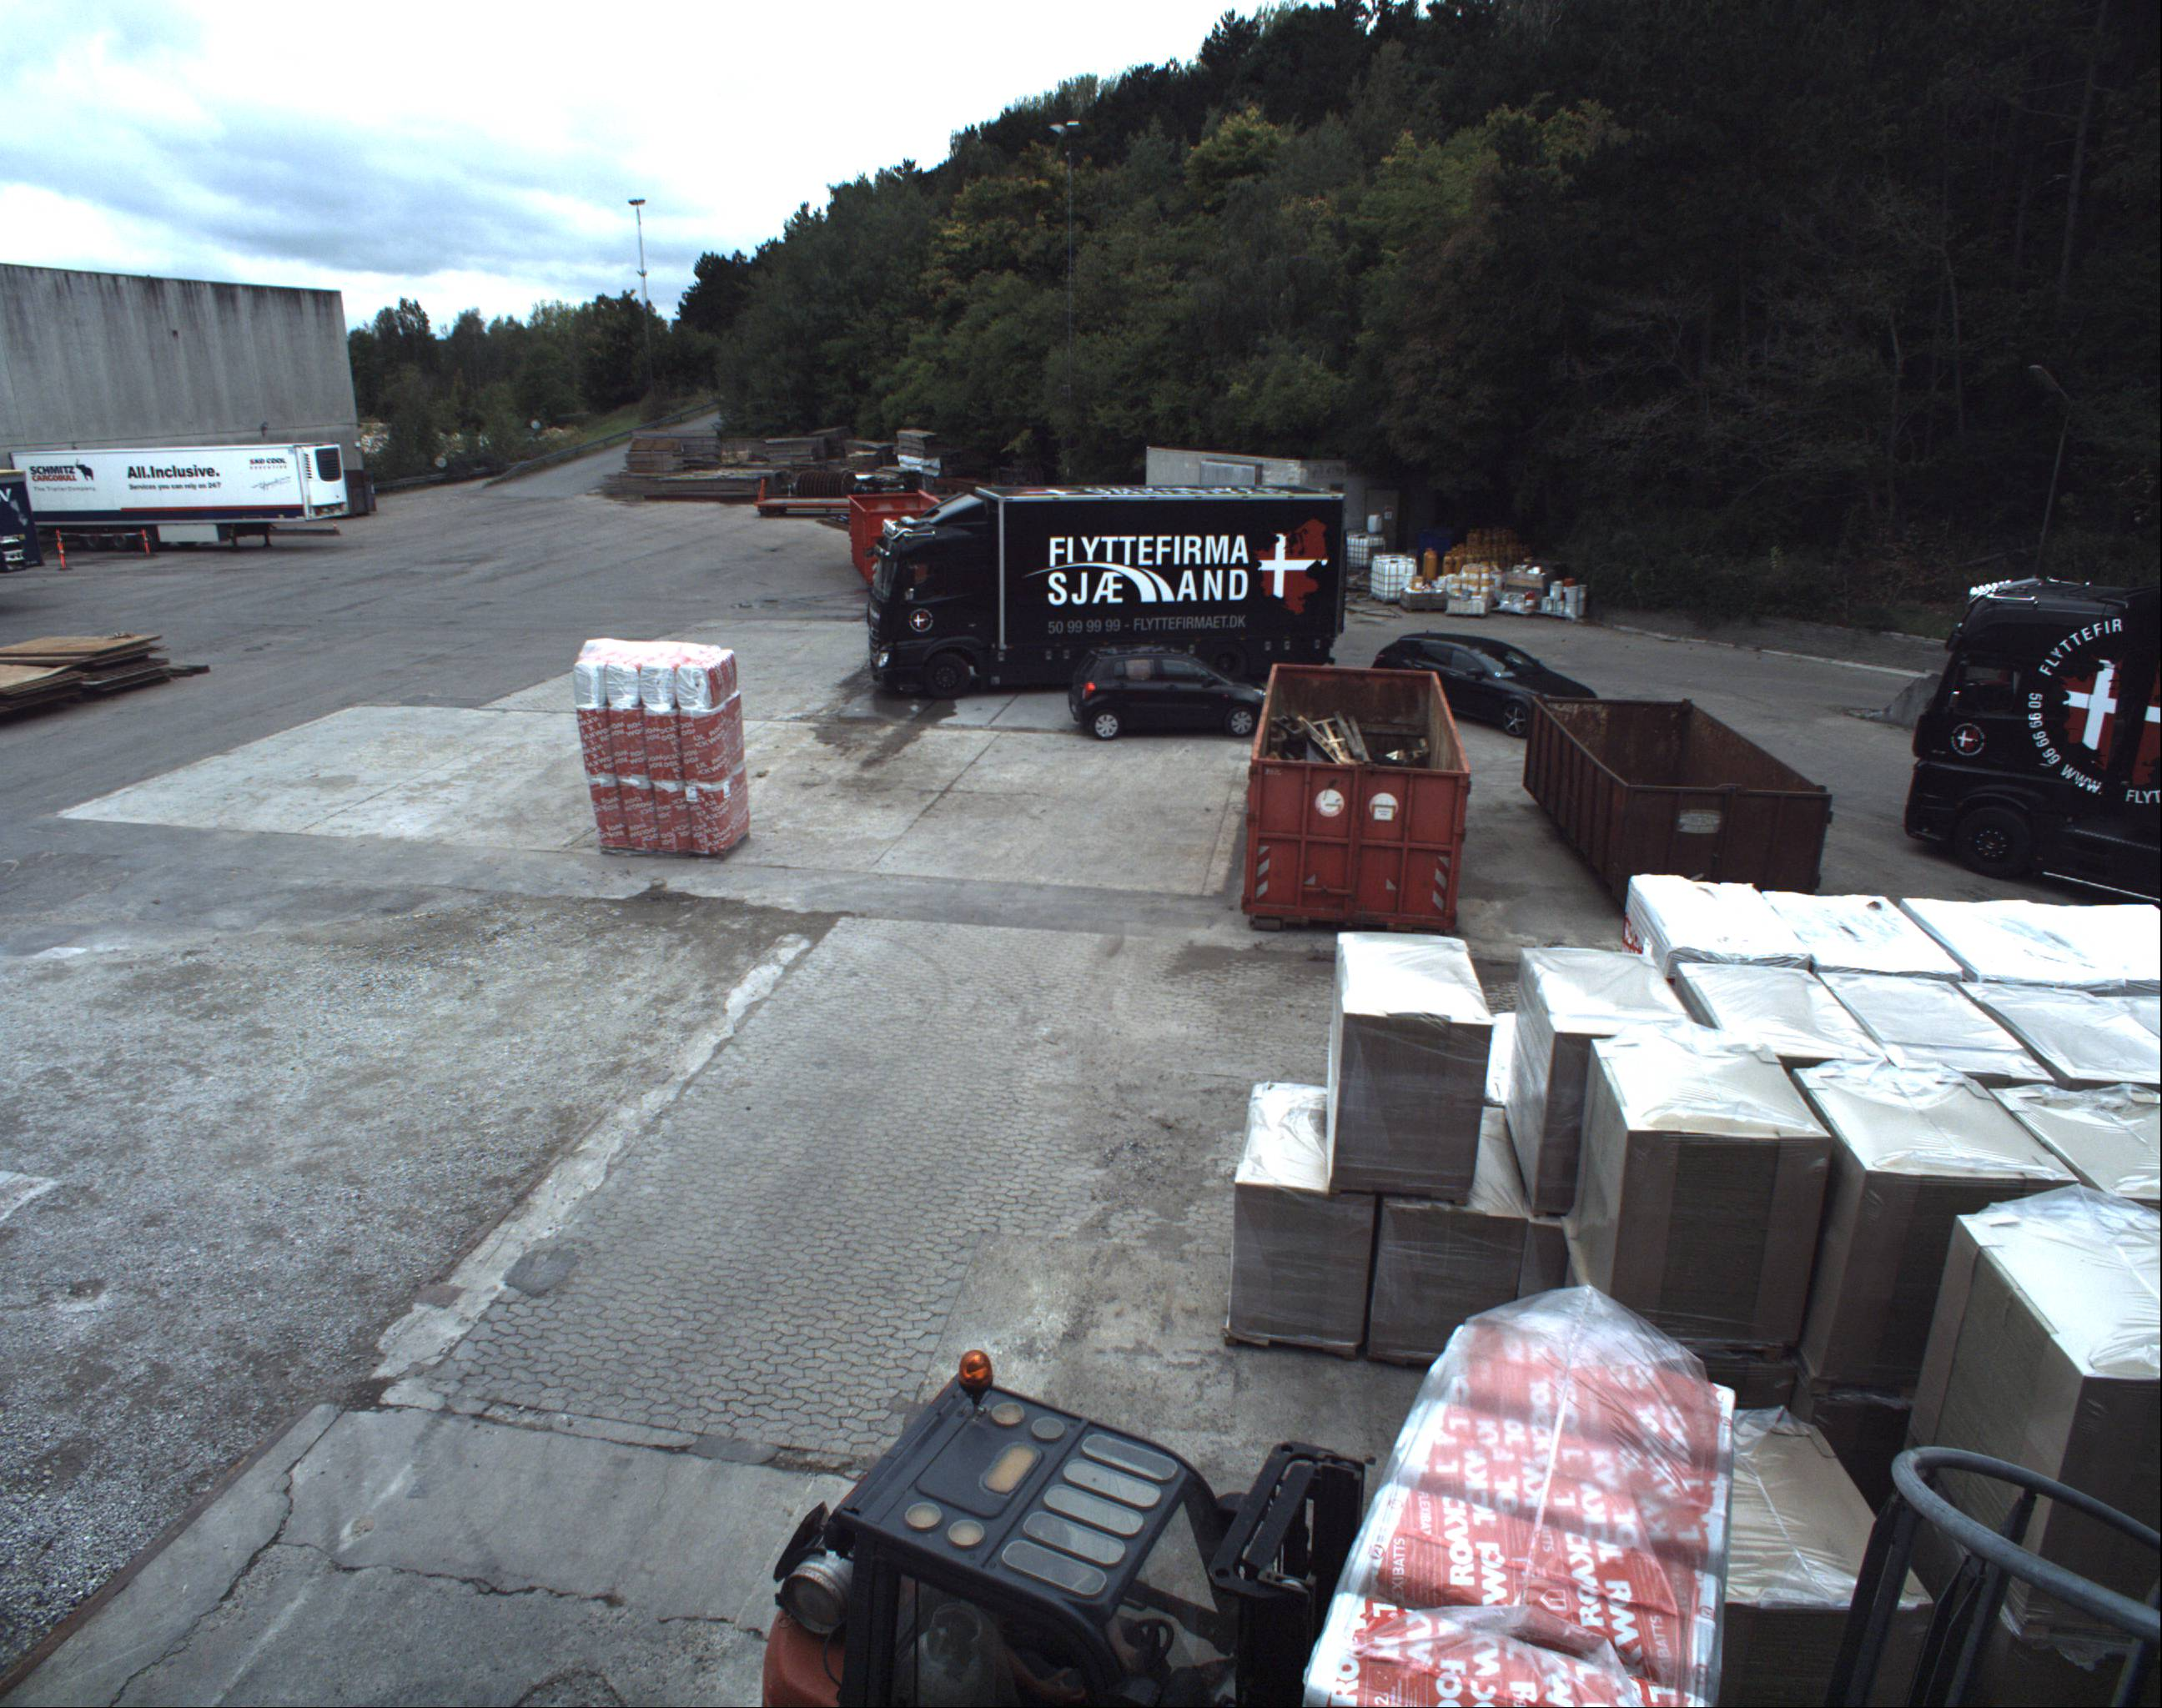rockwool_batts: (1267, 1290, 1732, 1706), (567, 628, 748, 848)
